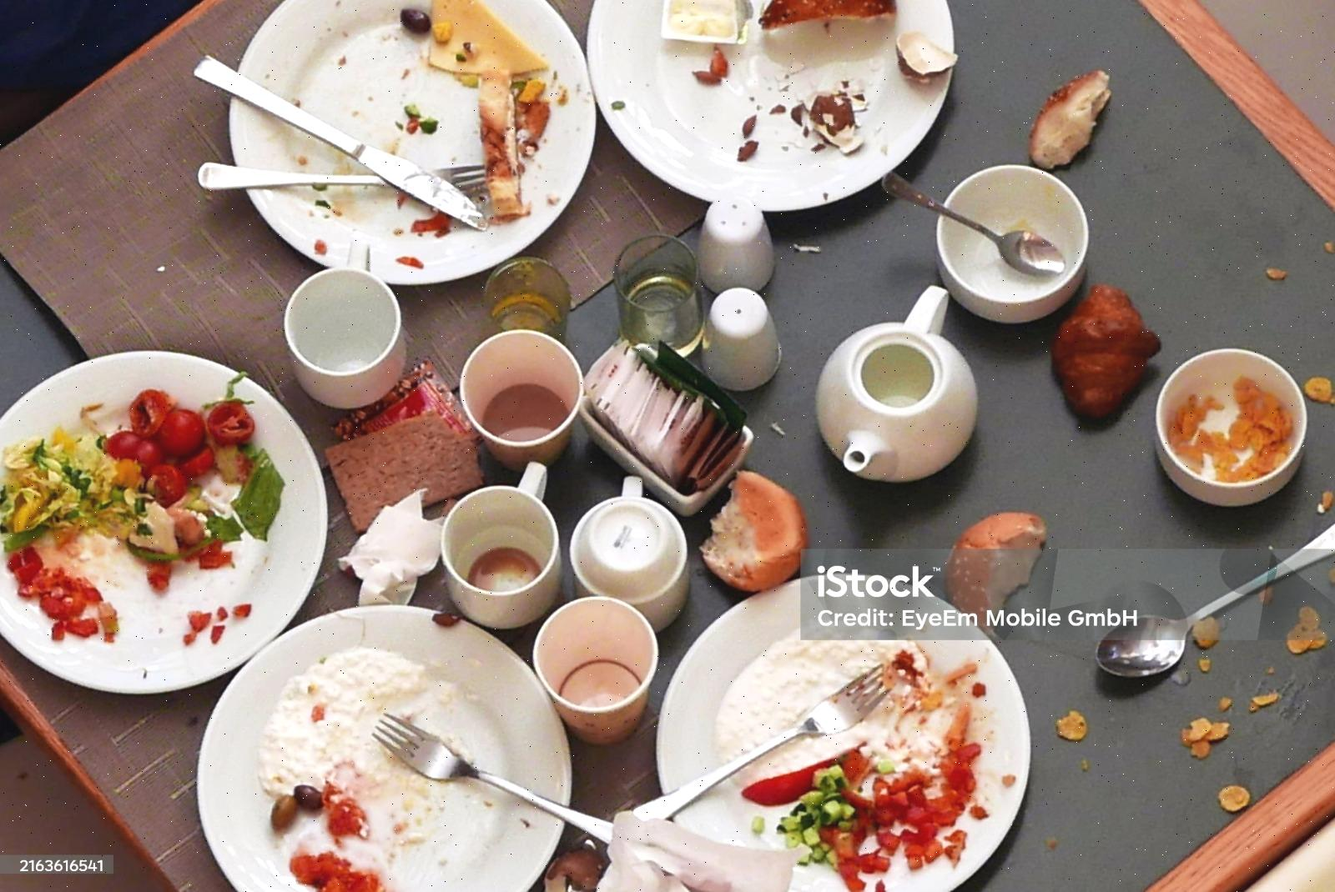Messy Table: (4, 6, 1335, 892)
